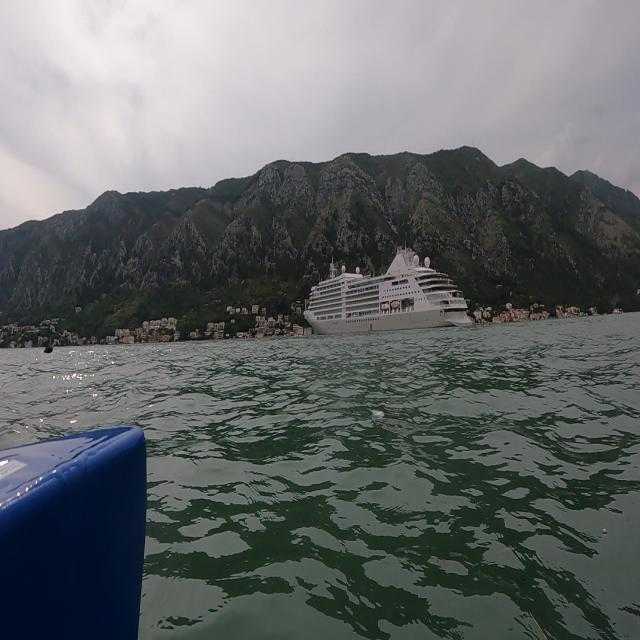boat: (301, 238, 474, 336)
buoy: (42, 337, 56, 363)
